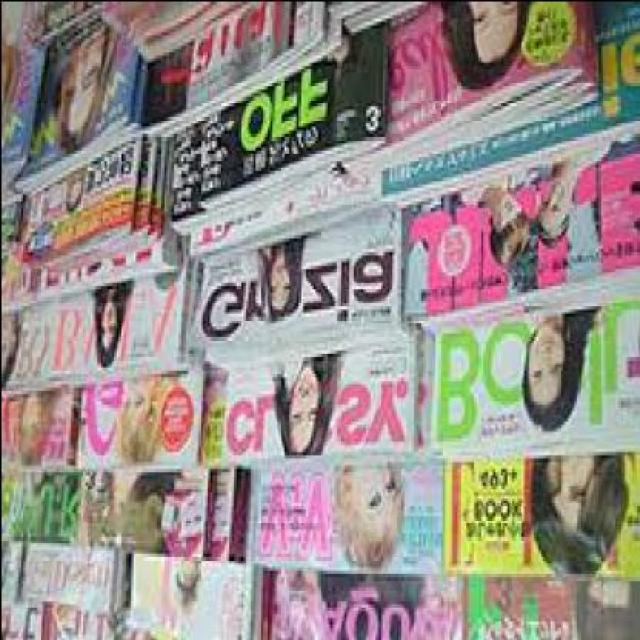PAPER: (378, 3, 638, 211), (398, 156, 638, 342), (346, 3, 594, 172), (198, 30, 382, 227), (192, 214, 398, 369), (432, 311, 638, 464), (216, 335, 427, 474), (138, 3, 338, 139), (187, 132, 379, 268), (440, 457, 638, 575), (12, 30, 139, 196), (238, 468, 440, 572), (16, 149, 166, 268), (51, 261, 189, 379), (72, 372, 216, 477), (76, 475, 233, 562), (256, 576, 458, 638), (17, 230, 177, 302), (124, 570, 258, 638), (134, 3, 266, 65), (457, 578, 574, 638), (16, 552, 118, 616), (1, 395, 77, 471), (1, 471, 76, 542), (1, 302, 58, 389), (22, 4, 106, 47), (170, 138, 196, 231)
